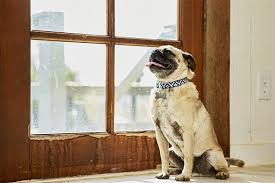dog_sitting: (146, 45, 245, 183)
